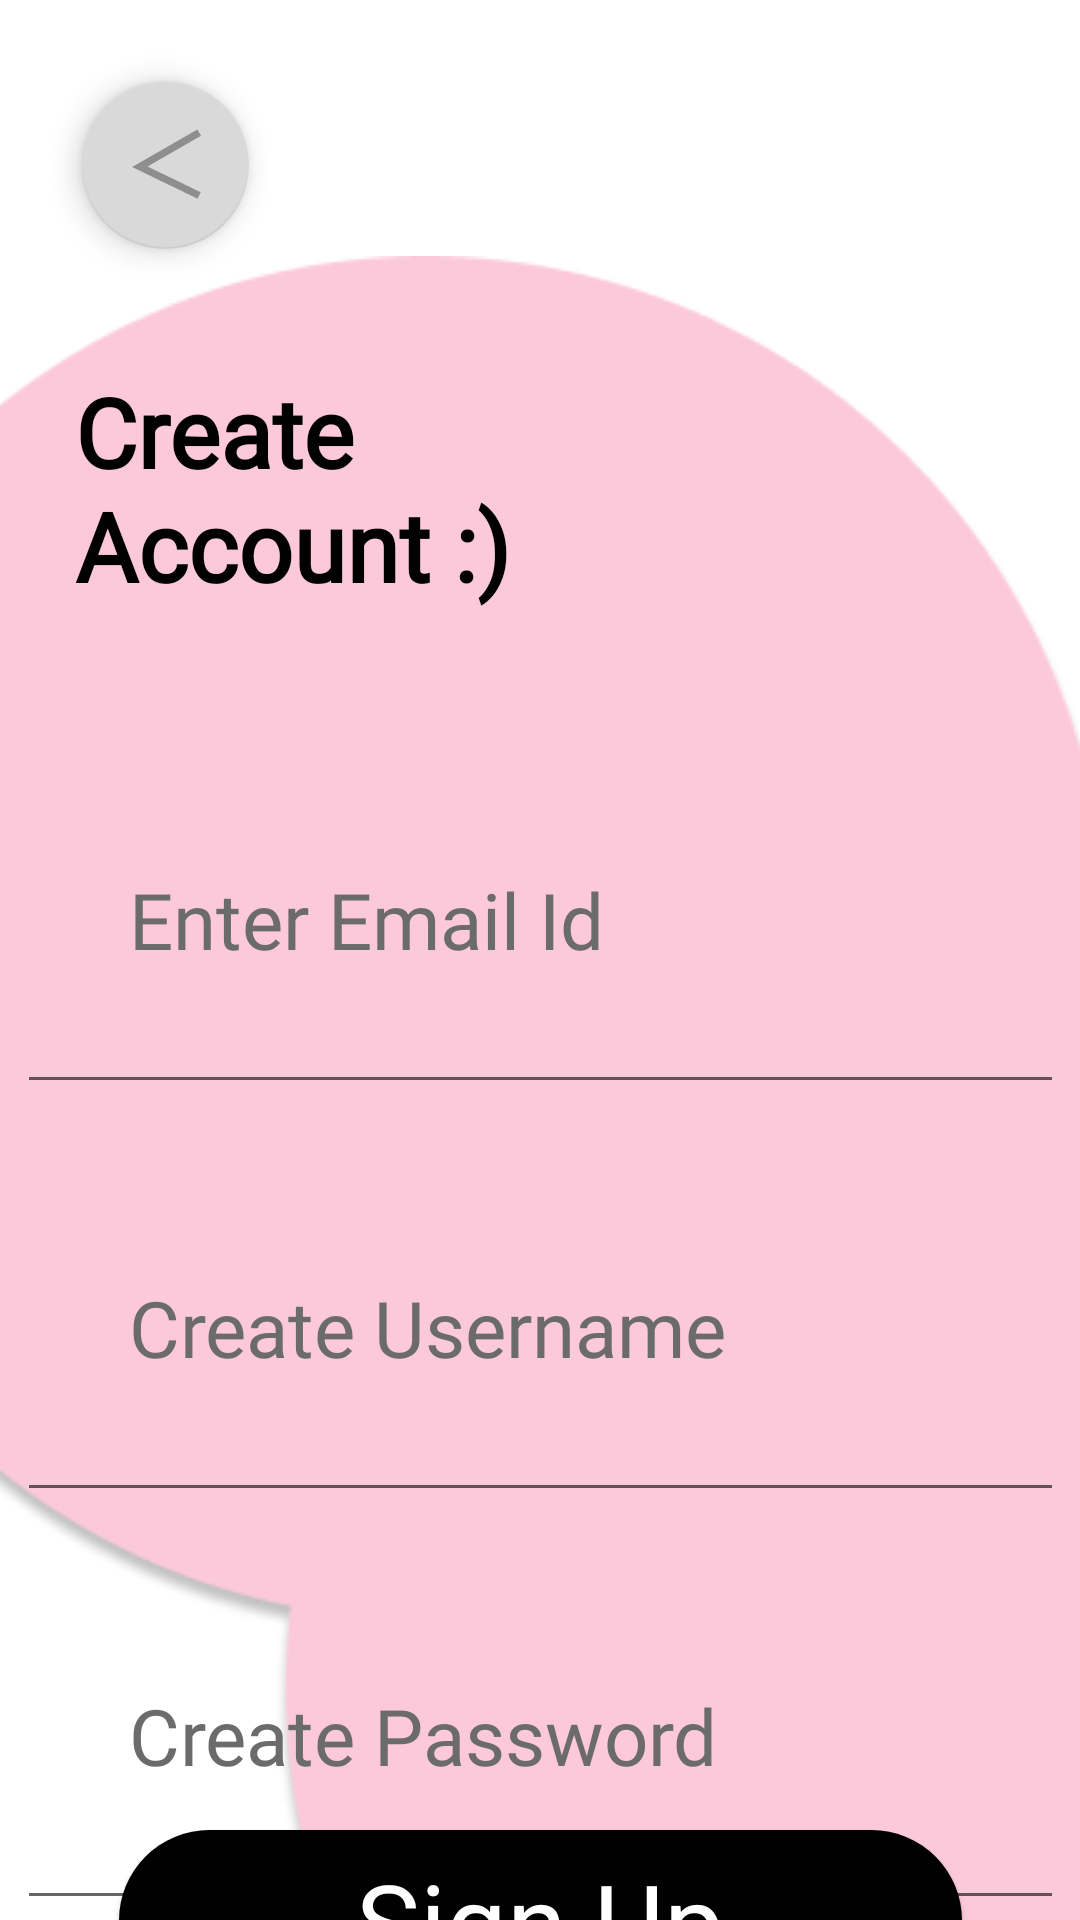

Named icons in this screenshot (1080x1920) and their bounding boxes, (x1, y1, x2, y2):
back: (81, 81, 249, 249)
